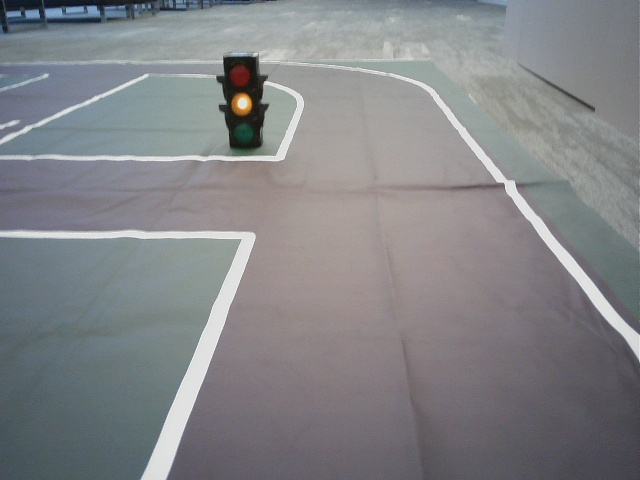yellow: (224, 57, 258, 146)
